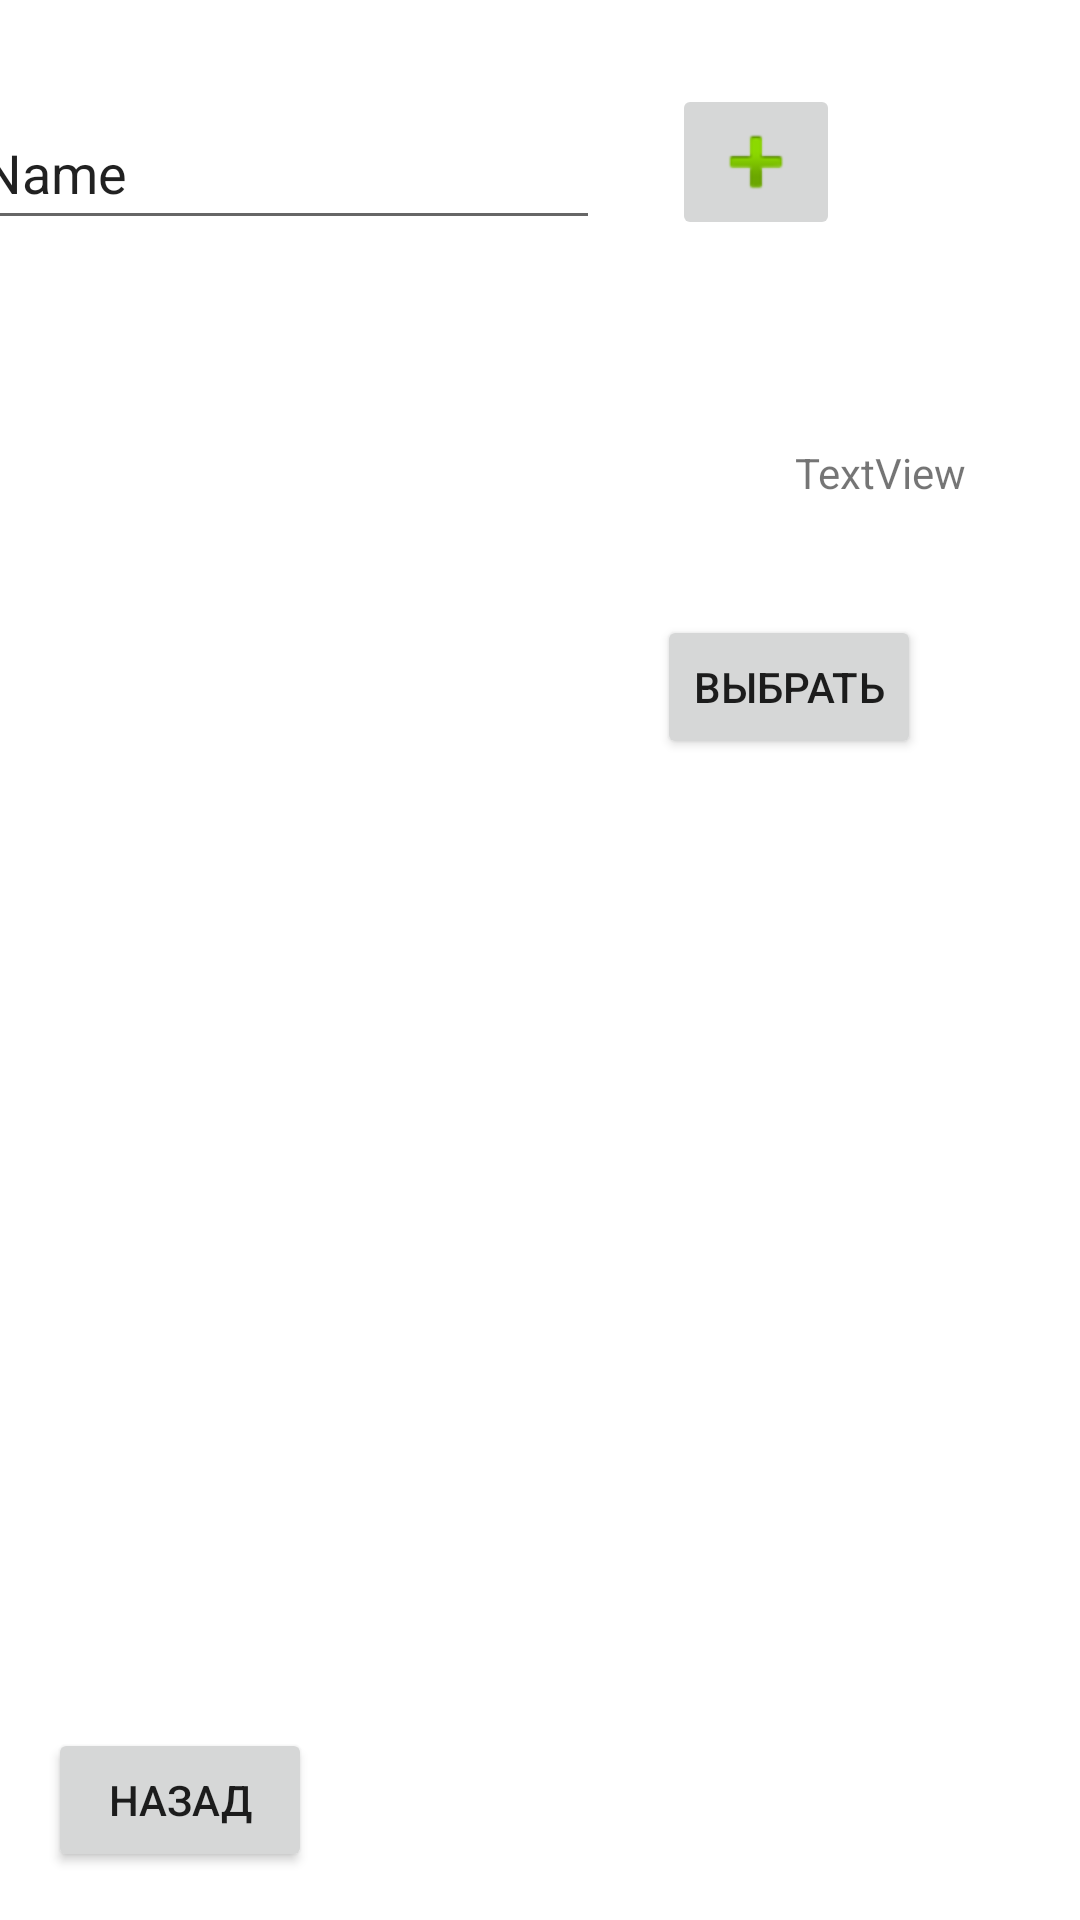

Icon click points for this 1080w x 1920h phone screenshot, format (x=x, y=y):
add: (x=756, y=162)
